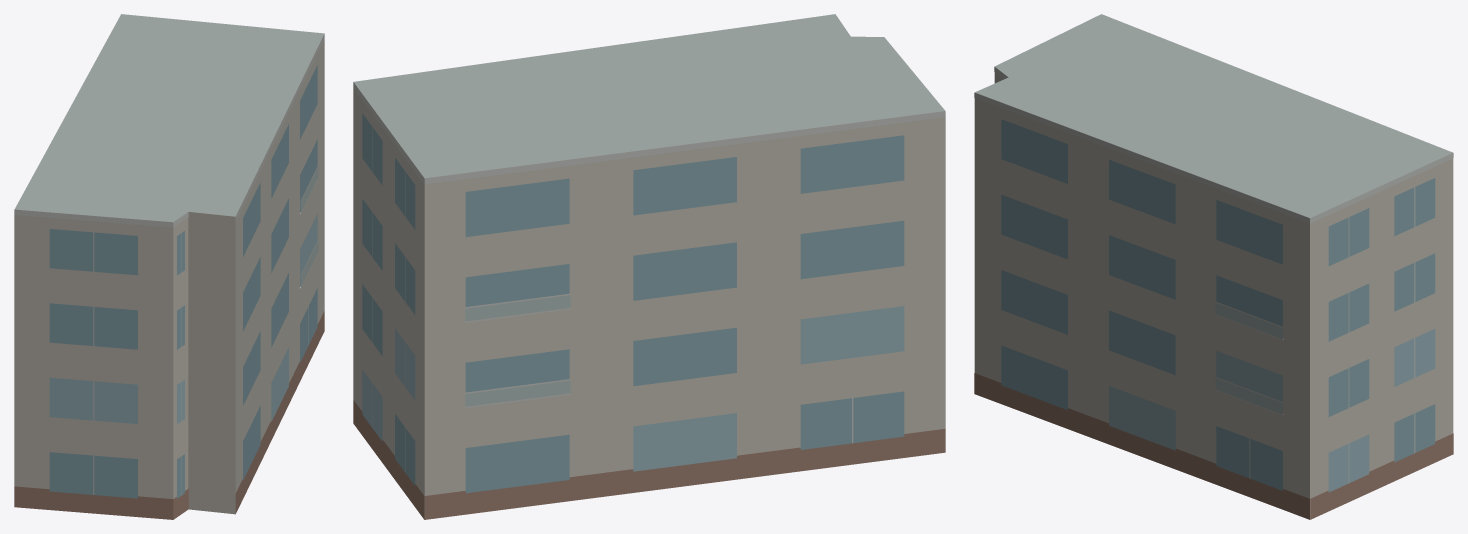
Rendered from survey-upis-32987723.glb.
The picture shows the model from 3 angles, left to right: view 1: azimuth 30°, elevation 25°; view 2: azimuth 150°, elevation 25°; view 3: azimuth 270°, elevation 25°; orthographic projection. The views are drawn at different scales.
Visible parts, largest first — view 1: survey-upis-32987723.tmp; view 2: survey-upis-32987723.tmp; view 3: survey-upis-32987723.tmp.
Part boxes in pixels (left/top/right/bottom): survey-upis-32987723.tmp: left=14, top=14, right=324, bottom=519; survey-upis-32987723.tmp: left=353, top=14, right=945, bottom=519; survey-upis-32987723.tmp: left=974, top=14, right=1453, bottom=519.
Bounding box in the file's own units: 19.62 × 13.5 × 19.43.
